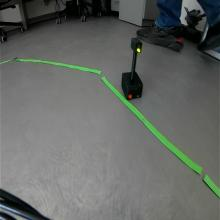green: (130, 37, 143, 54)
